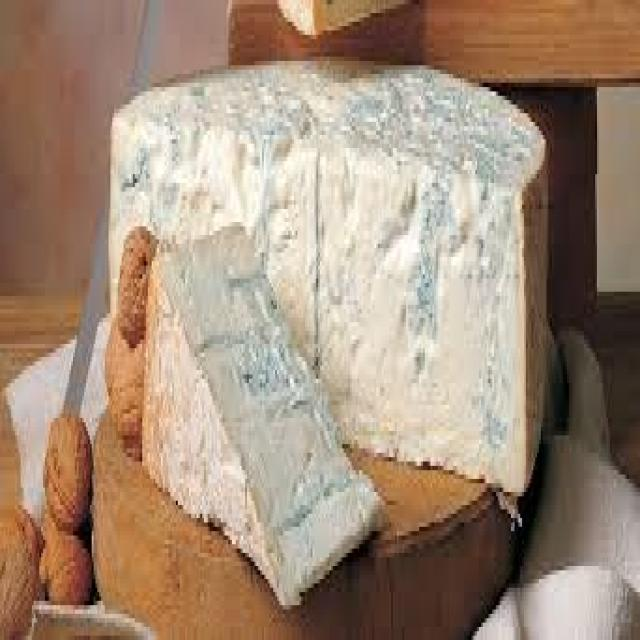Cheese: (111, 48, 548, 540), (137, 222, 376, 613)
